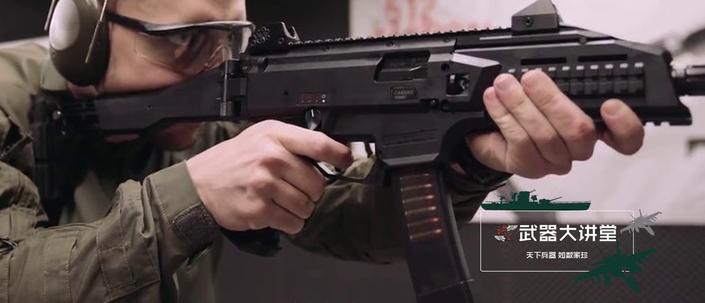gun: (1, 1, 705, 303)
